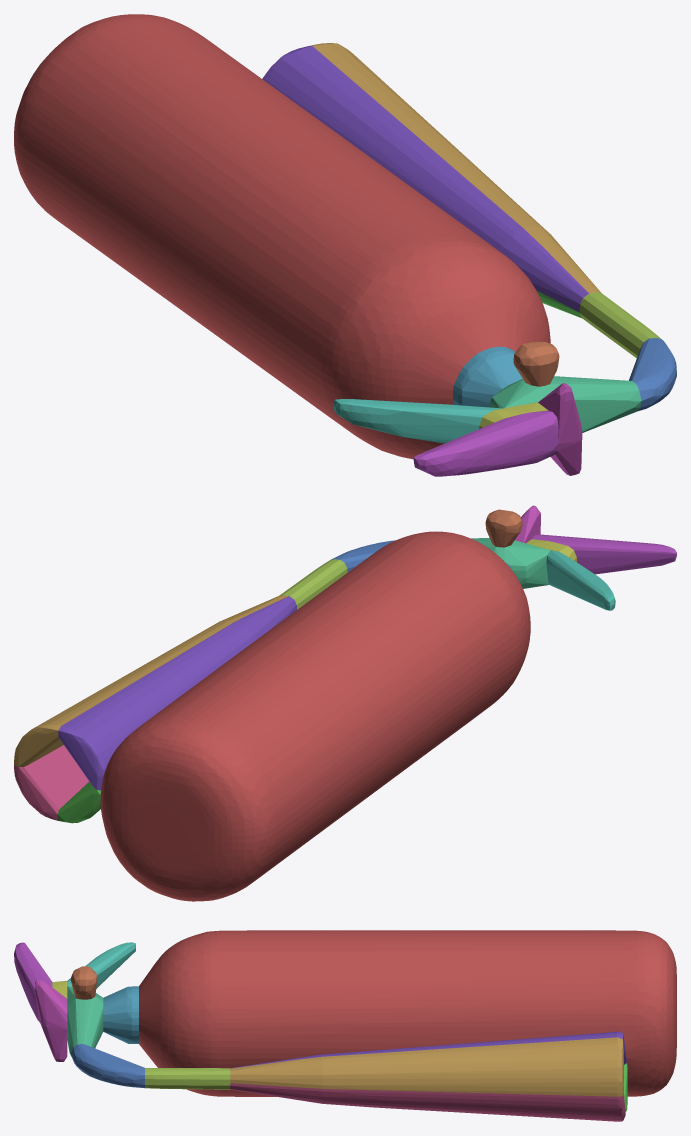
The model's file is hulls.glb.
3 renders of one model, top to bottom at view 1: azimuth 30°, elevation 25°; view 2: azimuth 150°, elevation 25°; view 3: azimuth 270°, elevation 25°, orthographic. The views are drawn at different scales.
Size of the model in its own units: 0.2418 by 0.1289 by 0.5228.
